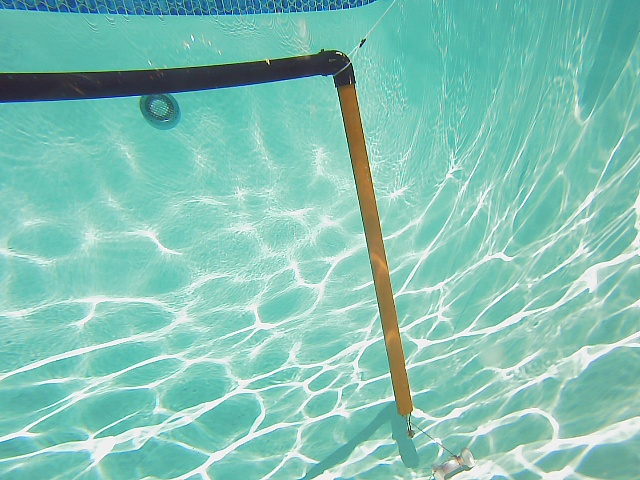Gate: (1, 46, 420, 422)
